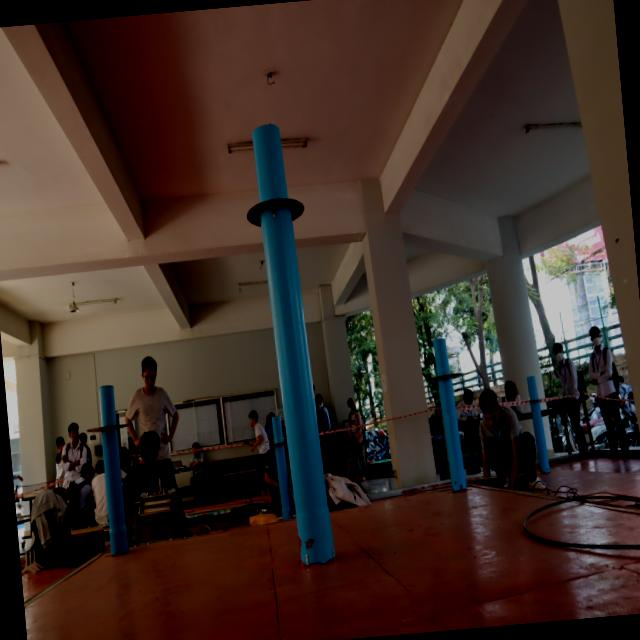pole: (224, 117, 318, 291), (79, 380, 136, 464), (420, 333, 469, 418), (516, 371, 554, 428), (261, 418, 291, 469)
